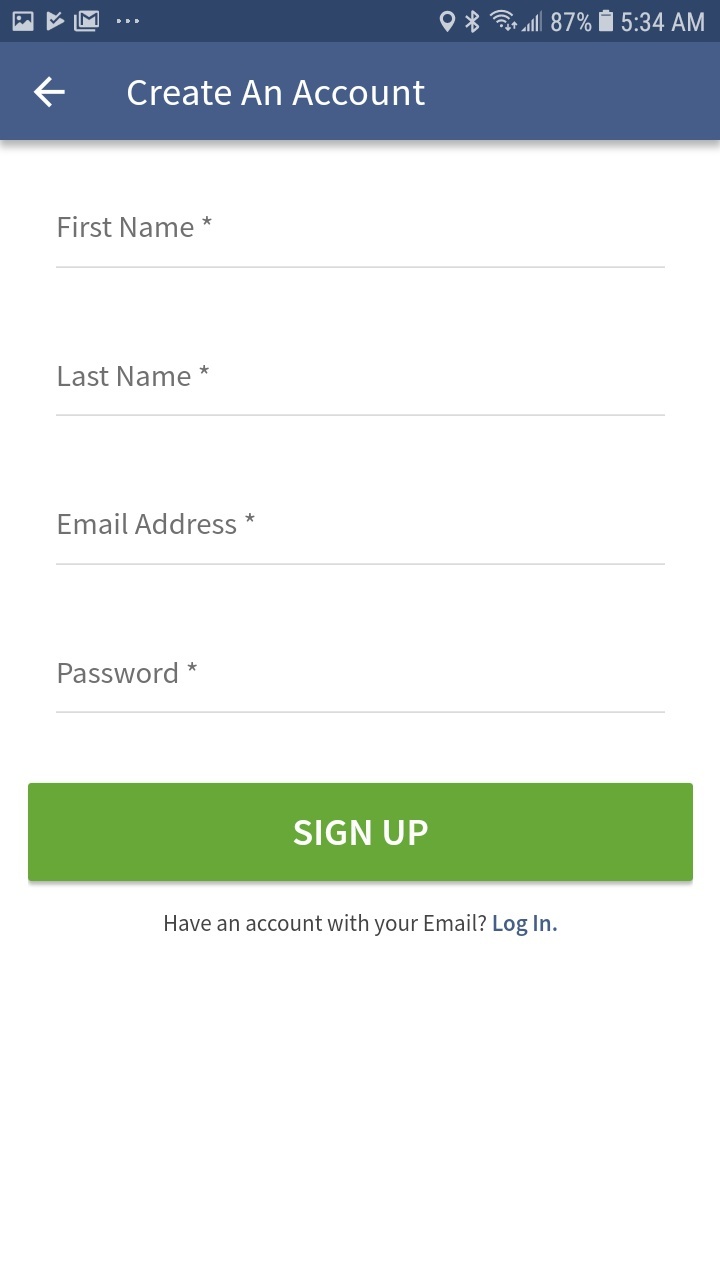EditText: (56, 216, 666, 270), (56, 513, 665, 567), (56, 662, 666, 714), (56, 366, 666, 418)
Icon: (34, 76, 67, 109)
Text: (165, 914, 558, 937), (128, 80, 426, 107), (58, 513, 256, 535), (59, 216, 212, 239), (58, 366, 210, 388), (59, 662, 199, 684)
TextButton: (28, 783, 693, 882)
UpperTaskBar: (1, 1, 720, 43)
